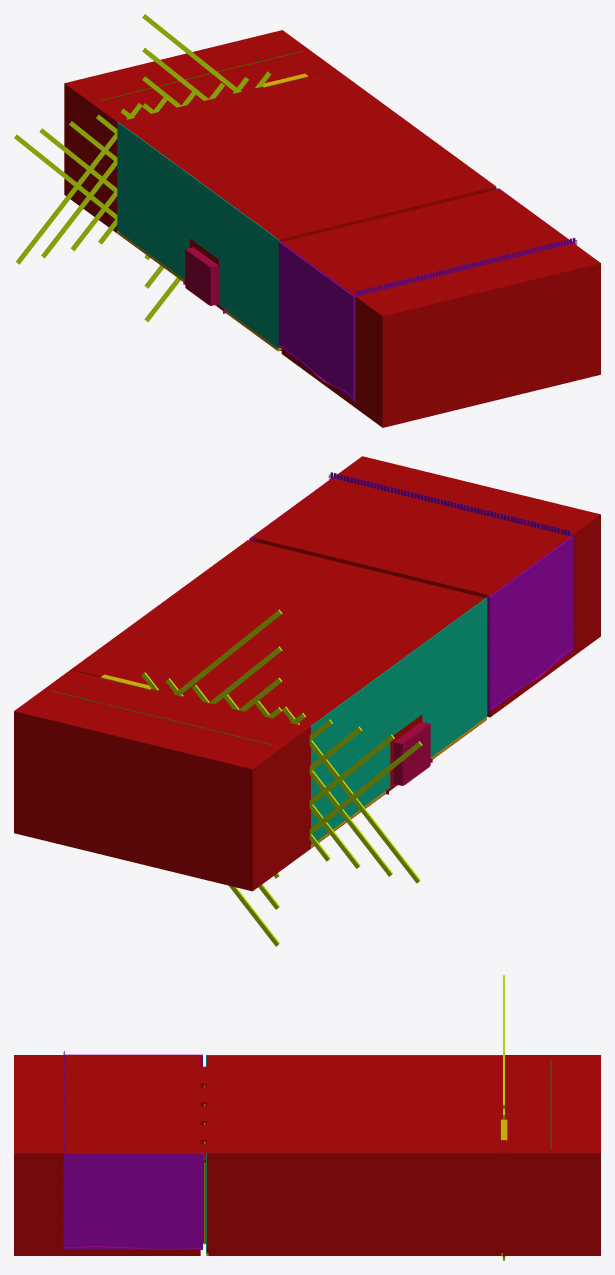
Rendered from room 2.fbx.
3 views of the same model, one above another, from view 1: azimuth 30°, elevation 25°; view 2: azimuth 150°, elevation 25°; view 3: azimuth 270°, elevation 25° (orthographic). The views are drawn at different scales.
Parts seen in each view (by area): view 1: polySurface244, polySurface253, pCube139, lattice_big, fireplace, lattice_wall_1; view 2: polySurface244, polySurface253, pCube139, lattice_big, fireplace, lattice_wall_1; view 3: polySurface244, pCube138, lattice_wall_1.
Part boxes in pixels (x1=…): polySurface244: x1=64, y1=30, x2=600, y2=427; polySurface253: x1=117, y1=122, x2=279, y2=348; pCube139: x1=278, y1=241, x2=355, y2=401; lattice_big: x1=14, y1=14, x2=271, y2=321; fireplace: x1=183, y1=247, x2=225, y2=313; lattice_wall_1: x1=352, y1=238, x2=577, y2=402; polySurface244: x1=14, y1=456, x2=600, y2=891; polySurface253: x1=310, y1=597, x2=487, y2=844; pCube139: x1=487, y1=536, x2=572, y2=711; lattice_big: x1=141, y1=609, x2=422, y2=946; fireplace: x1=385, y1=721, x2=432, y2=794; lattice_wall_1: x1=328, y1=472, x2=574, y2=651; polySurface244: x1=14, y1=1055, x2=600, y2=1255; pCube138: x1=64, y1=1152, x2=202, y2=1249; lattice_wall_1: x1=63, y1=1051, x2=64, y2=1252.
Size of the model in its own units: 902 by 820 by 1535.
